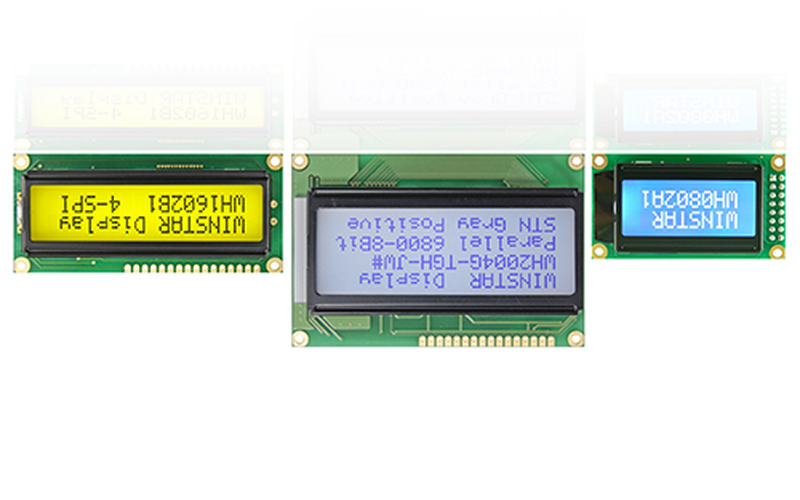LCD: (299, 173, 591, 322), (16, 163, 271, 256), (606, 154, 775, 259)
